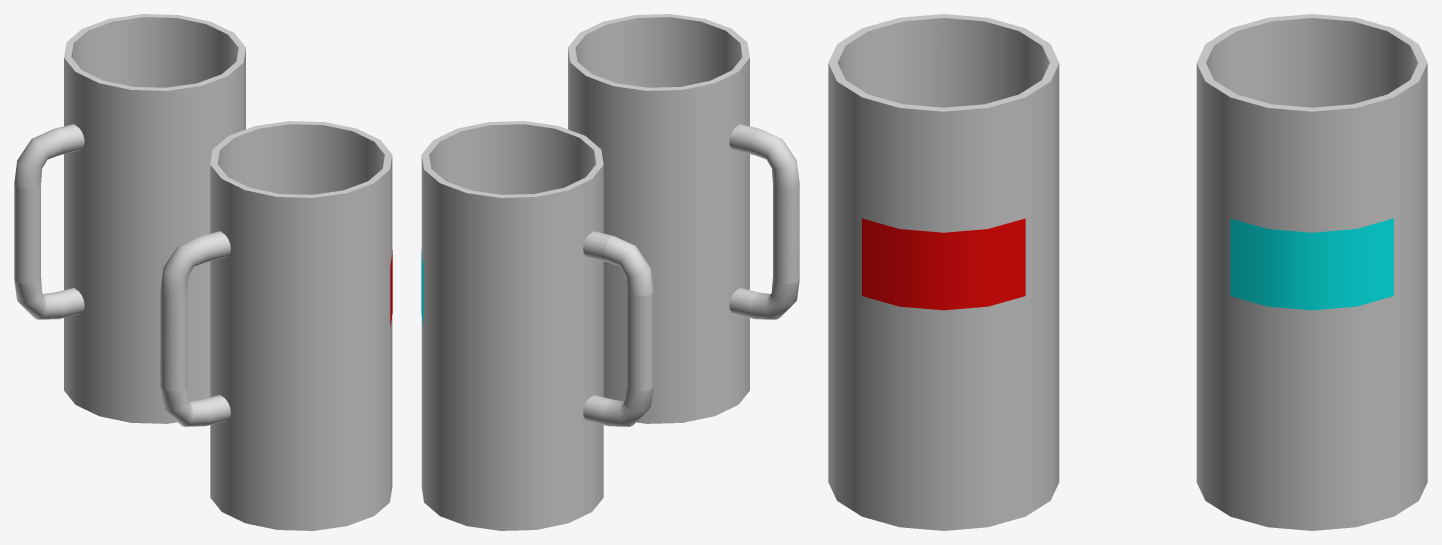
File: Jug Vessel.fbx
The picture shows the model from 3 angles, left to right: view 1: azimuth 30°, elevation 25°; view 2: azimuth 150°, elevation 25°; view 3: azimuth 270°, elevation 25°; orthographic projection. The views are drawn at different scales.
Visible parts, largest first — view 1: Jug (×2); view 2: Jug (×2); view 3: Jug (×2), Sticker (×2).
Part boxes in pixels (x1=…): Jug (×2): x1=14, y1=14, x2=392, y2=530; Jug (×2): x1=421, y1=14, x2=799, y2=530; Jug (×2): x1=828, y1=14, x2=1427, y2=530; Sticker (×2): x1=862, y1=218, x2=1393, y2=310.
Bounding box in the file's own units: 24.64 × 35.78 × 46.36.
